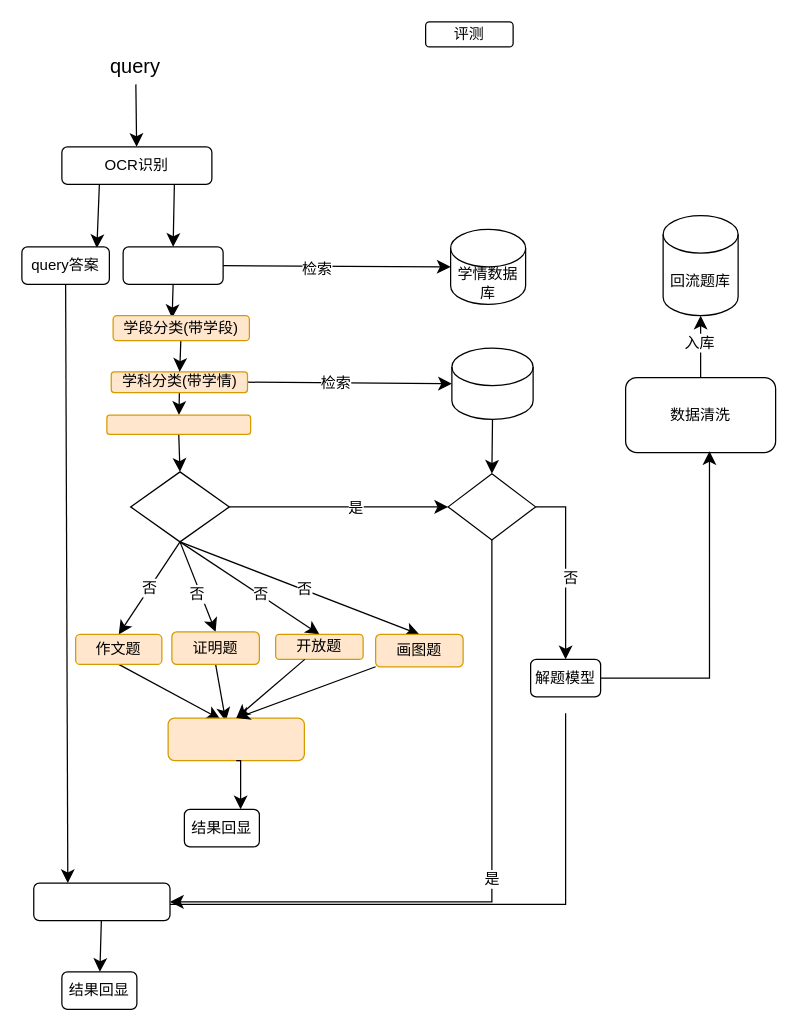
The diagram is 798 pixels wide and 1031 high, and some of its shapes have lost their labels. The shapes that lost their labels are listed below. From the top down, each one's centre as x and y in pixels, then its label:
At (172,265): "query题干".
At (492,383): "题库".
At (178,424): "题型分类".
At (179,506): "是否常规批改题".
At (491,506): "是否相同题".
At (235,739): "不同的批改模型".
At (101,901): "答案抽取&比对".
